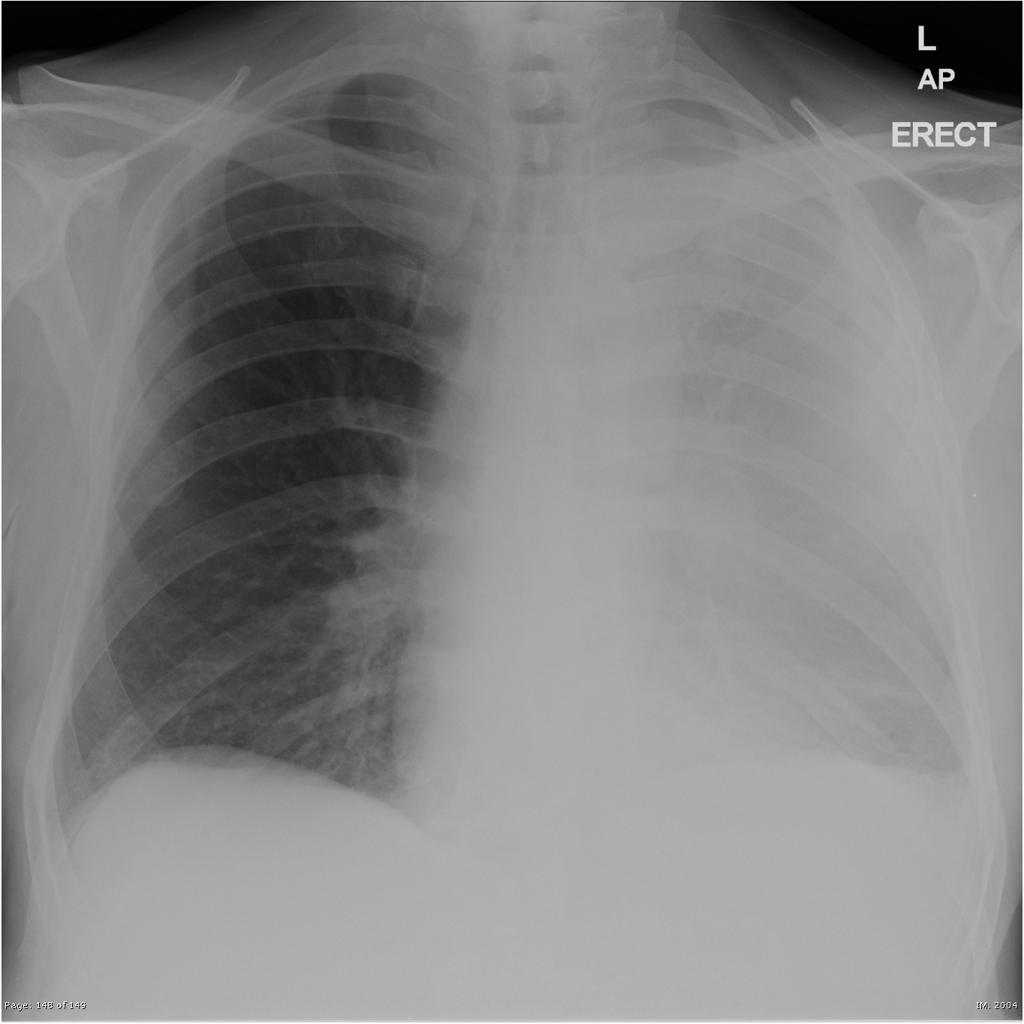cancer: (543, 174, 926, 872)
